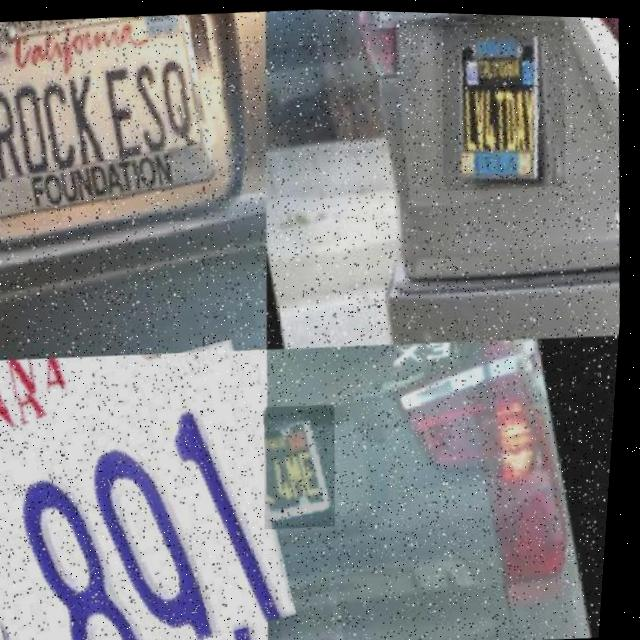LicensePlate: (0, 341, 306, 640), (0, 5, 243, 234), (433, 13, 576, 190), (264, 400, 348, 529)
